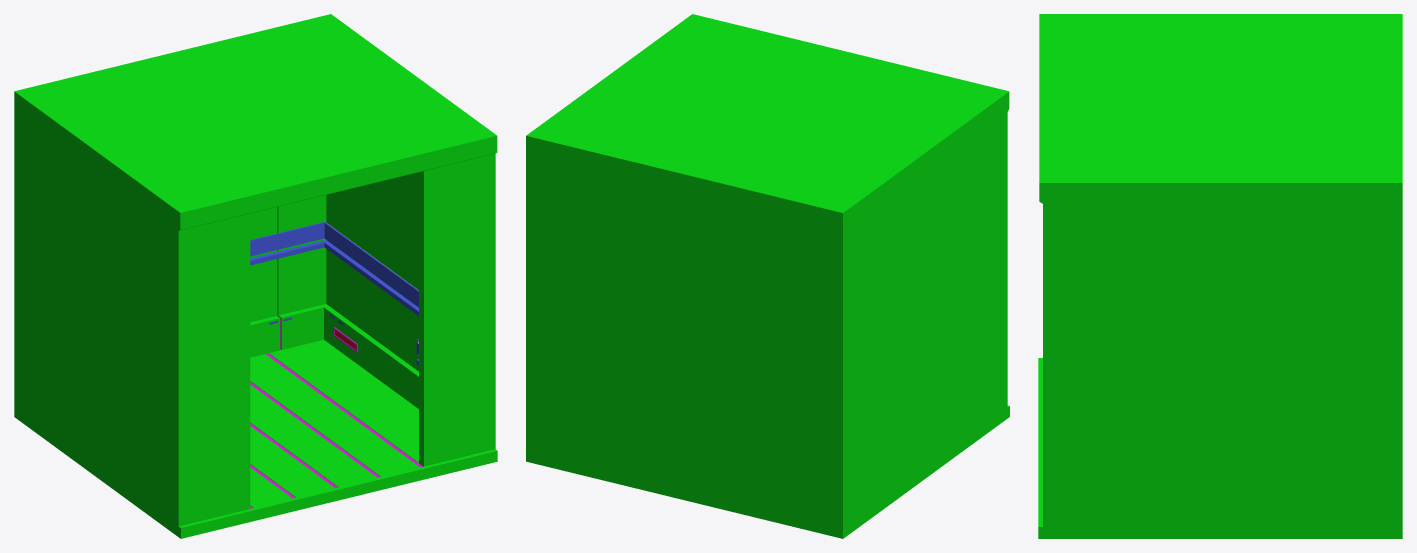
The model's file is Elevator_01.fbx.
The picture shows the model from 3 angles, left to right: view 1: azimuth 30°, elevation 25°; view 2: azimuth 150°, elevation 25°; view 3: azimuth 270°, elevation 25°; orthographic projection. The views are drawn at different scales.
Visible parts, largest first — view 1: Elevator_01; view 2: Elevator_01; view 3: Elevator_01.
Part boxes in pixels (<box>): Elevator_01: <box>14,14,497,538</box>; Elevator_01: <box>526,14,1009,538</box>; Elevator_01: <box>1038,14,1402,538</box>.
Bounding box in the file's own units: 285 × 280 × 260.
